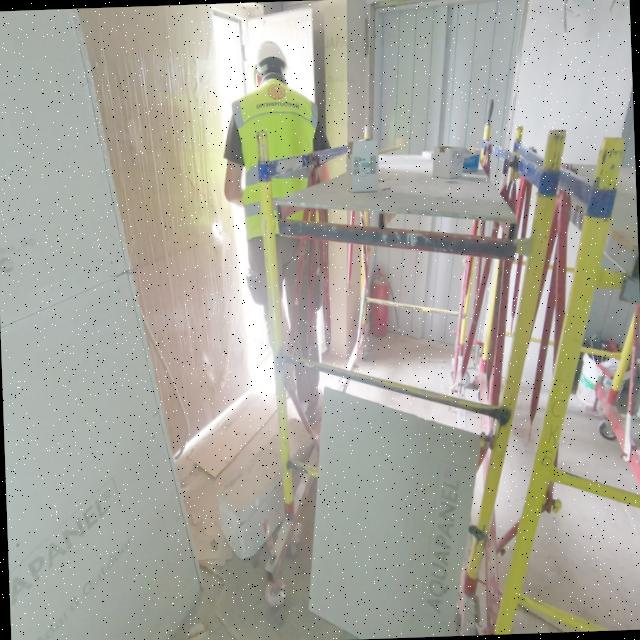Helmet: (254, 41, 290, 77)
Jacket: (244, 70, 312, 218)
